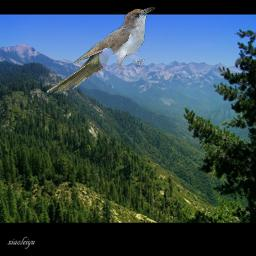Cuckoo: (46, 7, 155, 94)
